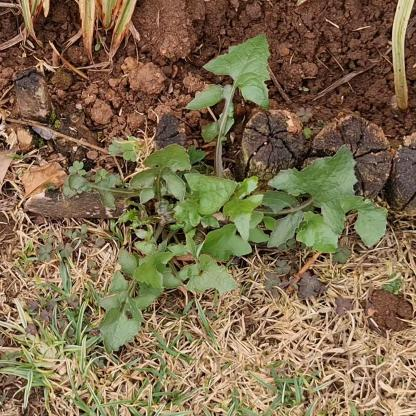Weeds: (62, 35, 389, 353)
